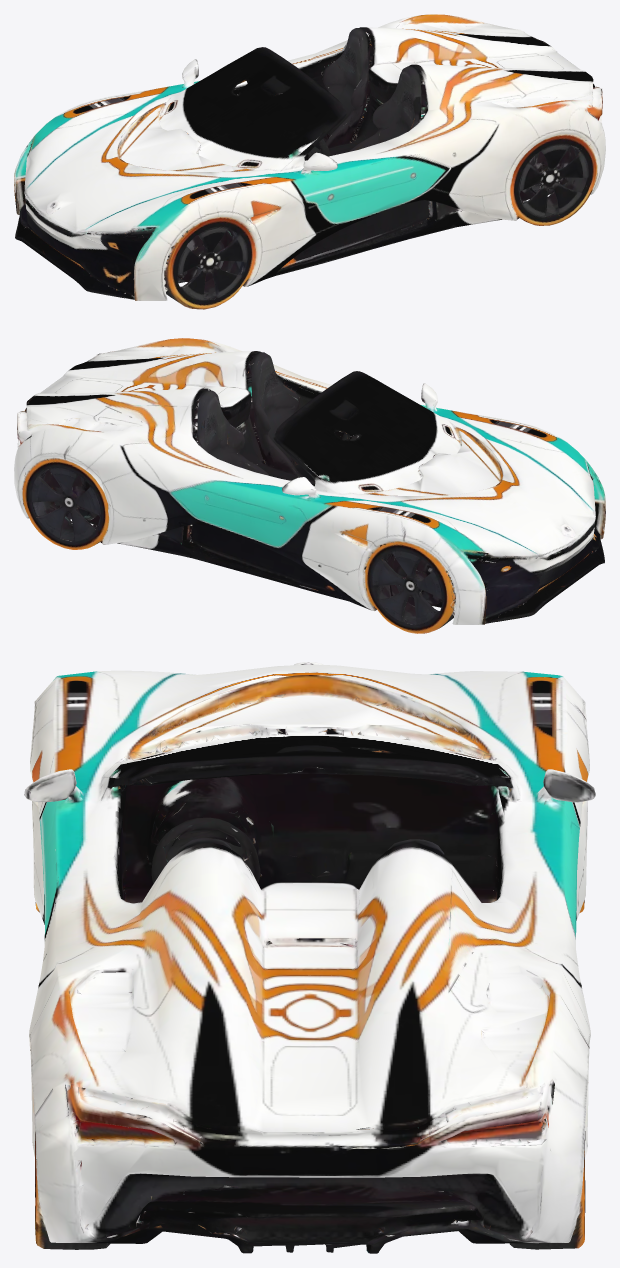
The model's file is roadster.glb.
3 renders of one model, top to bottom at view 1: azimuth 30°, elevation 25°; view 2: azimuth 150°, elevation 25°; view 3: azimuth 270°, elevation 25°, orthographic. The views are drawn at different scales.
Parts seen in each view (by area): view 1: Mesh1.0; view 2: Mesh1.0; view 3: Mesh1.0.
Part boxes in pixels (bbox=[...]): Mesh1.0: bbox=[14, 14, 605, 309]; Mesh1.0: bbox=[14, 338, 605, 633]; Mesh1.0: bbox=[24, 662, 595, 1253].
Bounding box in the file's own units: 1.91 × 0.5235 × 0.8895.
1 material, 1 textured.
